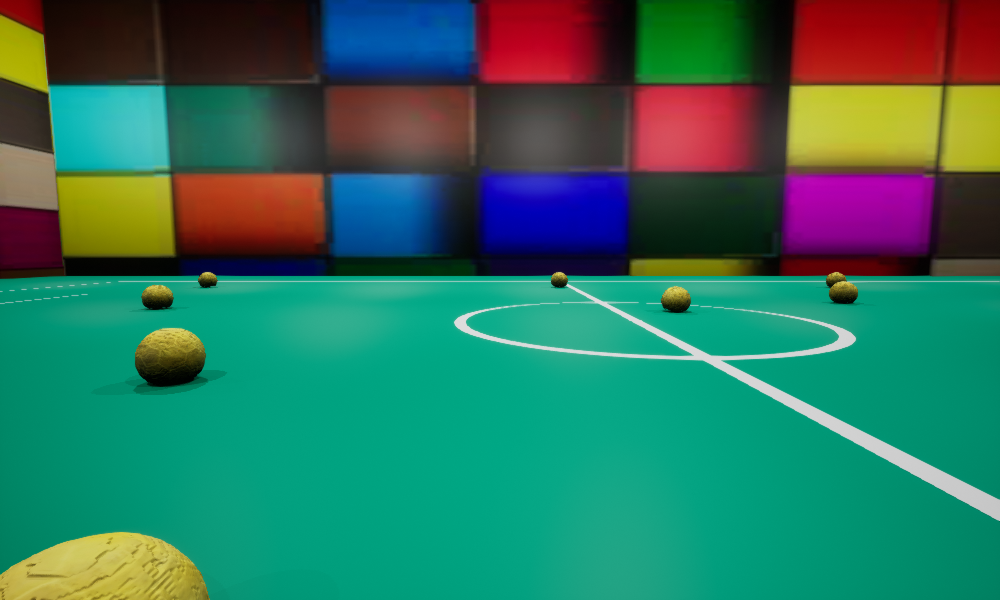b: (0, 532, 209, 599), (135, 328, 205, 384), (141, 285, 173, 308), (661, 286, 690, 311), (829, 281, 857, 303), (826, 272, 846, 286), (198, 272, 217, 286), (551, 272, 567, 286)
